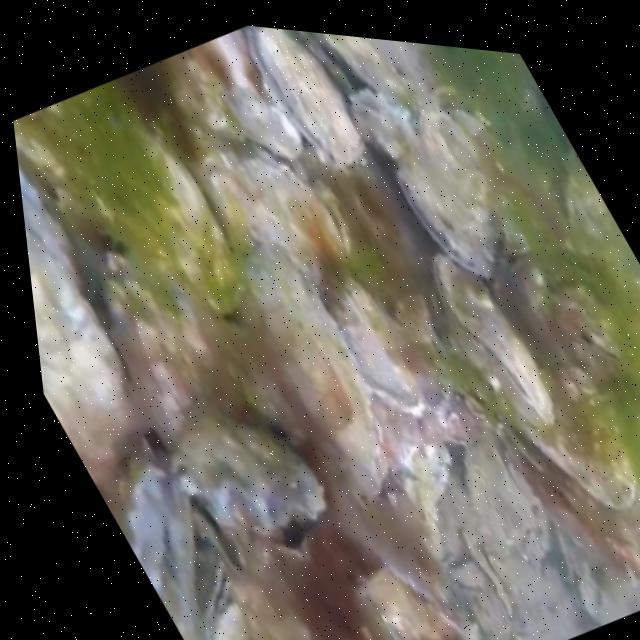Oyster-Closed: (433, 252, 552, 425), (201, 147, 353, 279), (245, 26, 368, 167), (400, 108, 499, 277), (334, 283, 445, 410), (349, 88, 419, 159), (197, 549, 231, 629), (572, 572, 597, 616)
Oyster-Indeterminate: (240, 248, 386, 494), (106, 249, 261, 448), (101, 116, 234, 308), (149, 28, 303, 165), (357, 565, 476, 640), (562, 483, 640, 578), (567, 146, 629, 263), (317, 33, 408, 102)
Oyster-Open: (18, 166, 138, 465), (472, 357, 638, 513), (165, 407, 327, 534), (115, 455, 200, 640)
